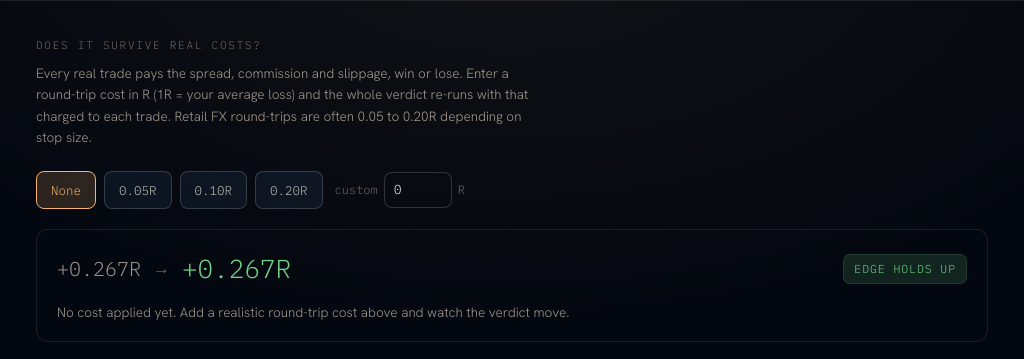
Test: CostStress › degrades the verdict when a preset cost is applied
This screenshot has width=1024, height=359.
What coordinates should you click on to do the following:
click the button "0.20R"
I would click on:
 (289, 190)
Its box is 255,171 -> 322,209.
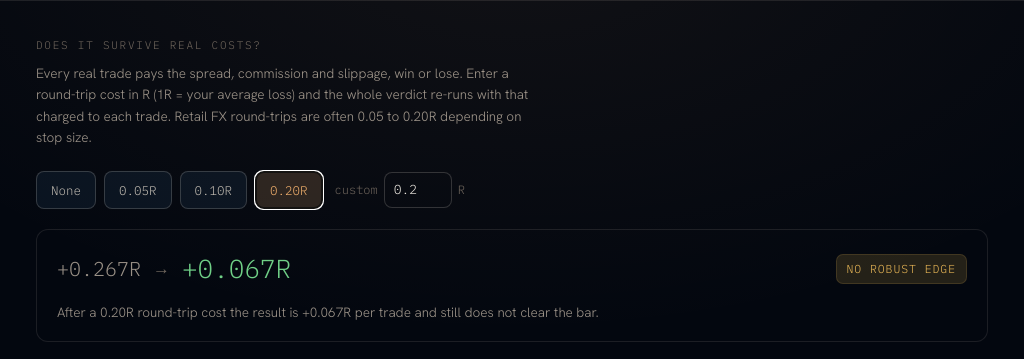
Now the text "EDGE HOLDS UP" is gone
